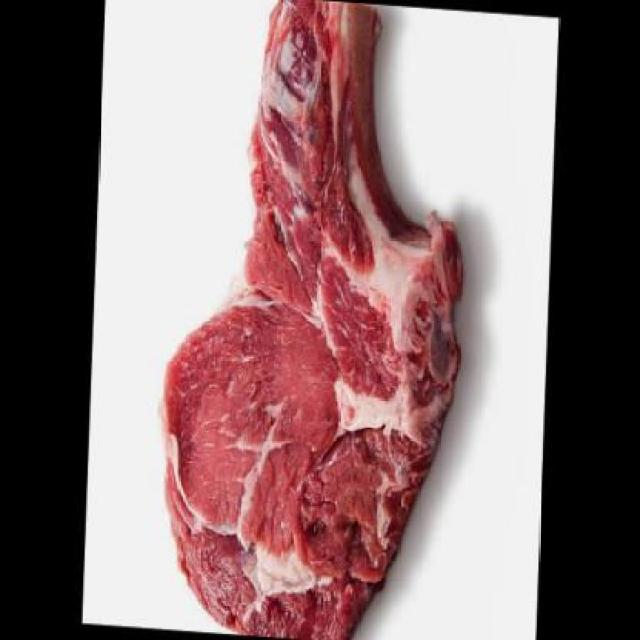beef: (150, 0, 479, 638)
